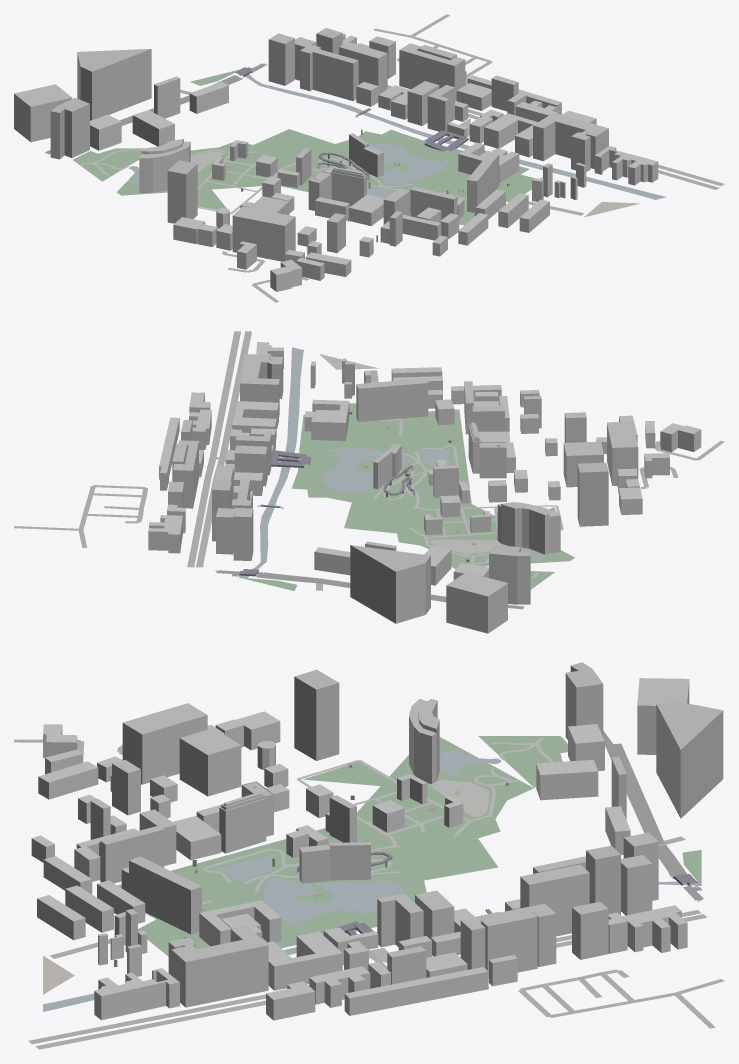
3 views of the same model, one above another, from view 1: azimuth 30°, elevation 25°; view 2: azimuth 150°, elevation 25°; view 3: azimuth 270°, elevation 25° (orthographic). The views are drawn at different scales.
Bounding box in the file's own units: 581 × 61.96 × 540.
